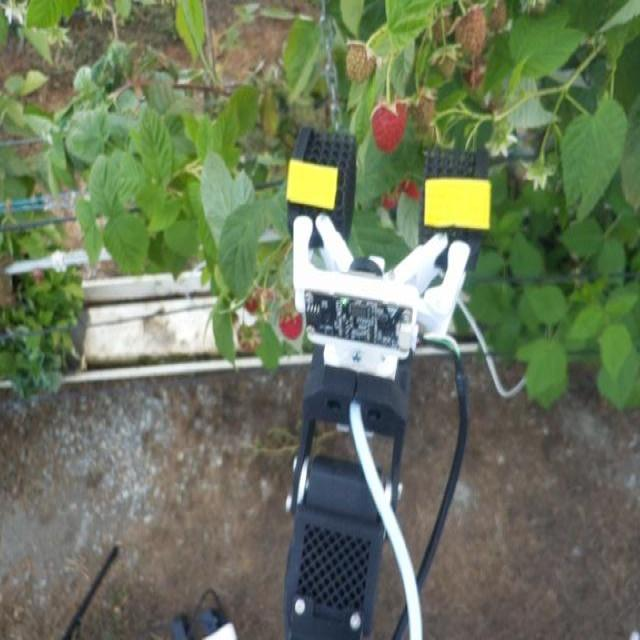Riped berries: (368, 96, 410, 153), (278, 306, 304, 342), (398, 173, 422, 198), (241, 290, 262, 316)
